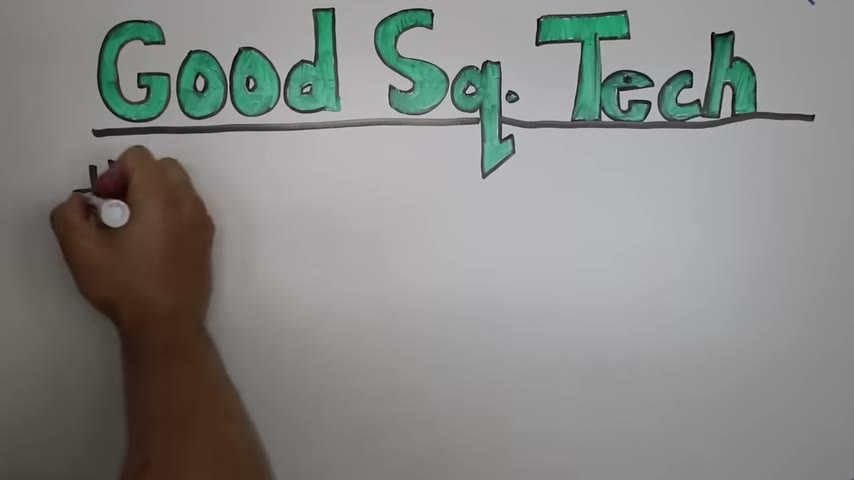barbell_plate_side: (90, 2, 161, 171)
